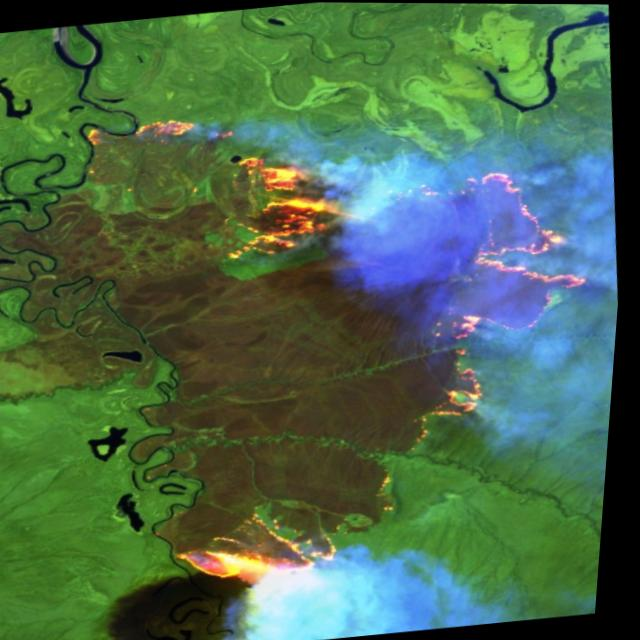fire: (46, 58, 637, 621)
